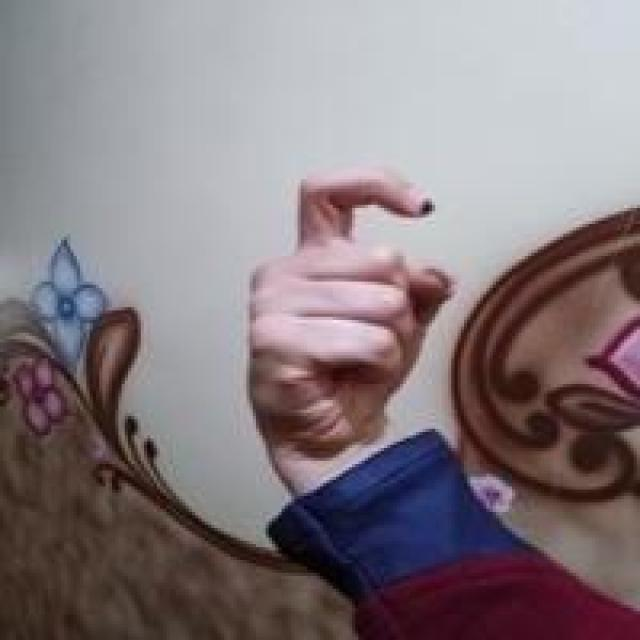X: (238, 168, 456, 456)
